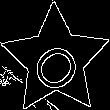O_NE: (24, 28, 88, 93)
